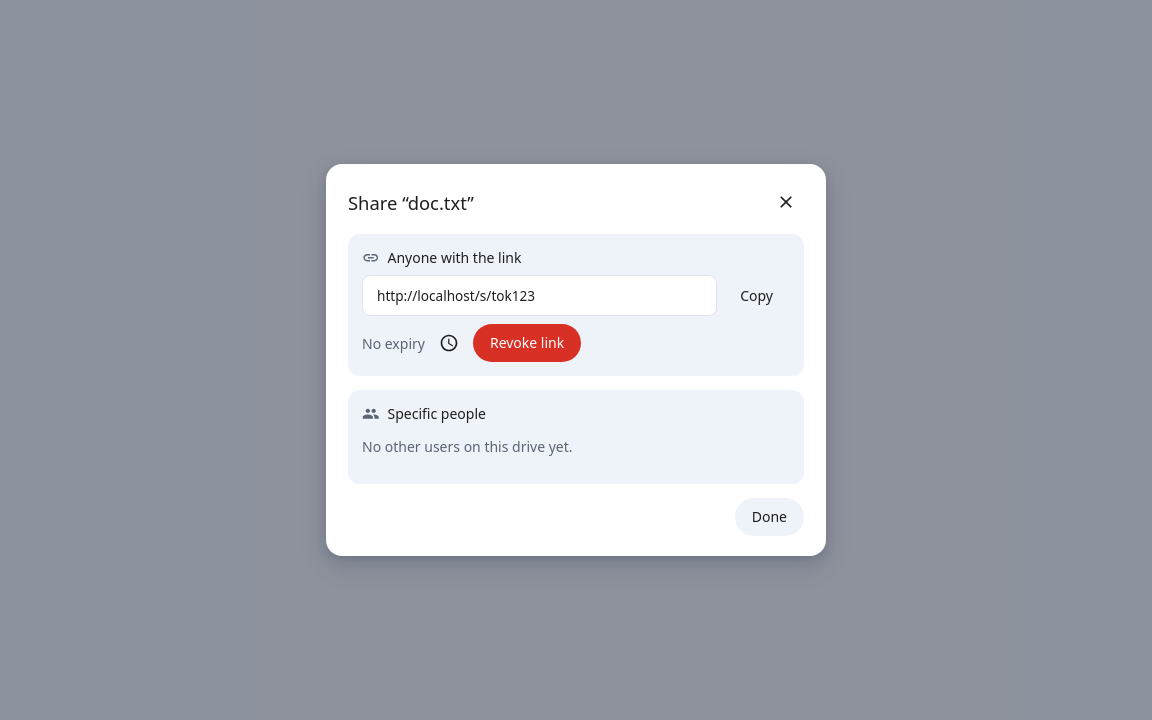
ShareDialog › revokes the link share
What coordinates should you click on to do the following:
click the button "Revoke link"
I would click on:
 (527, 343)
Its box is [473,324,581,362].
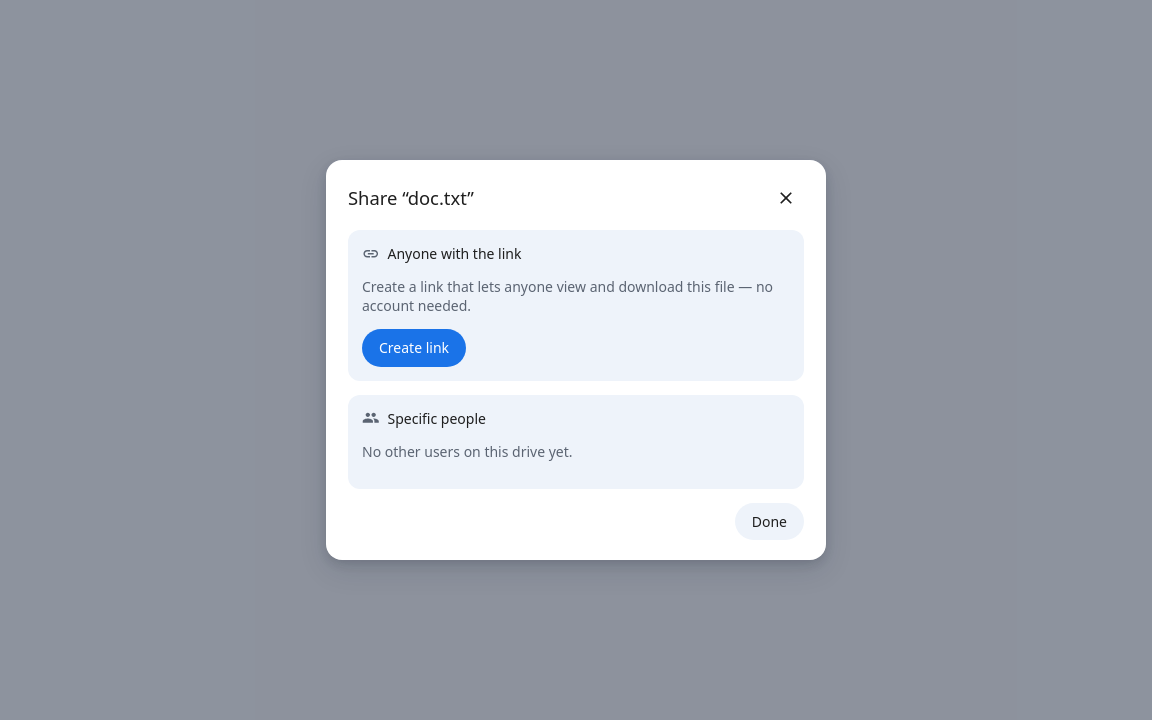
Check: the button "Create link" is shown, box [362,329,466,366]
